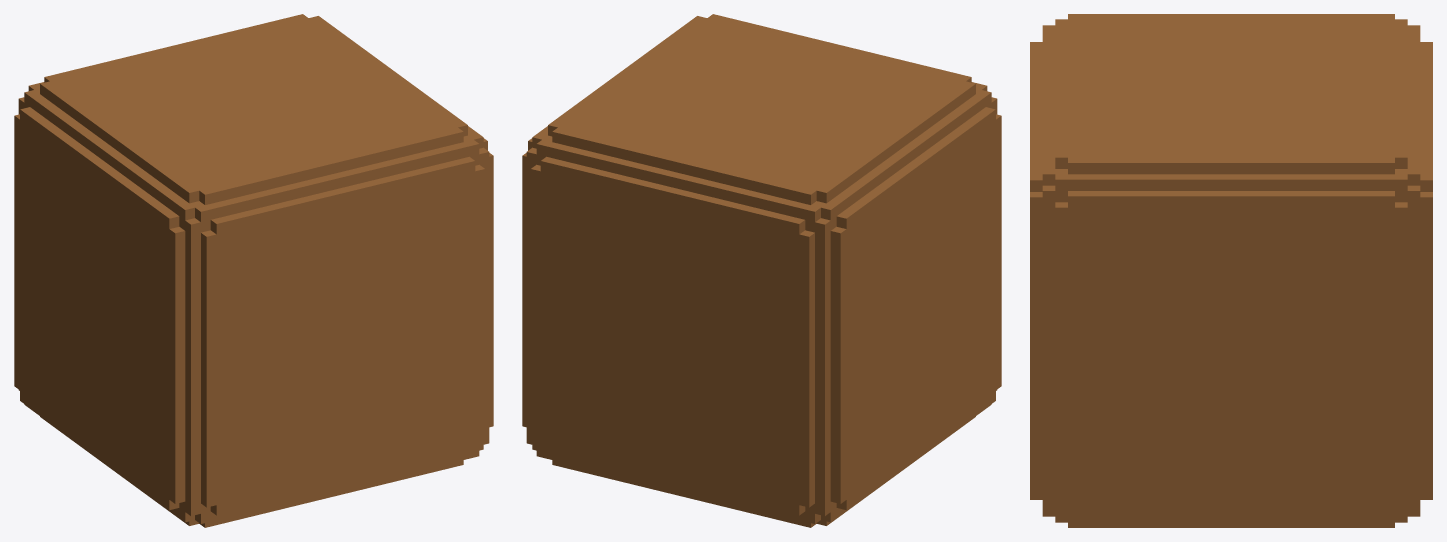
File: StoneCube-1-1.obj
3 views of the same model, side by side, from view 1: azimuth 30°, elevation 25°; view 2: azimuth 150°, elevation 25°; view 3: azimuth 270°, elevation 25° (orthographic). The views are drawn at different scales.
Visible parts, largest first — view 1: 1; view 2: 1; view 3: 1.
Part boxes in pixels (x1,y1,x2,y2): 1: (14, 14, 493, 527); 1: (522, 14, 1001, 527); 1: (1030, 14, 1432, 527).
Bounding box in the file's own units: 6.4 × 6.4 × 6.4.
Materials: 1 (1 with a texture image).
